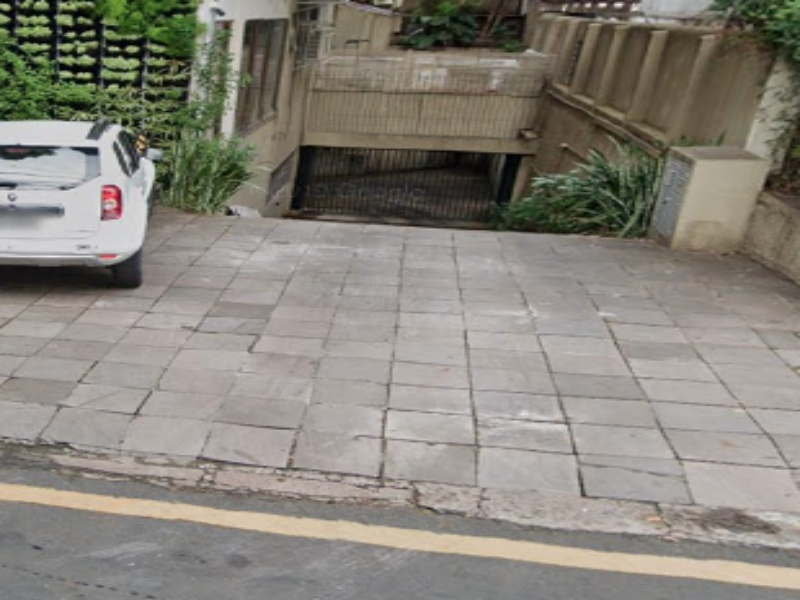g55: (86, 423, 768, 600)
